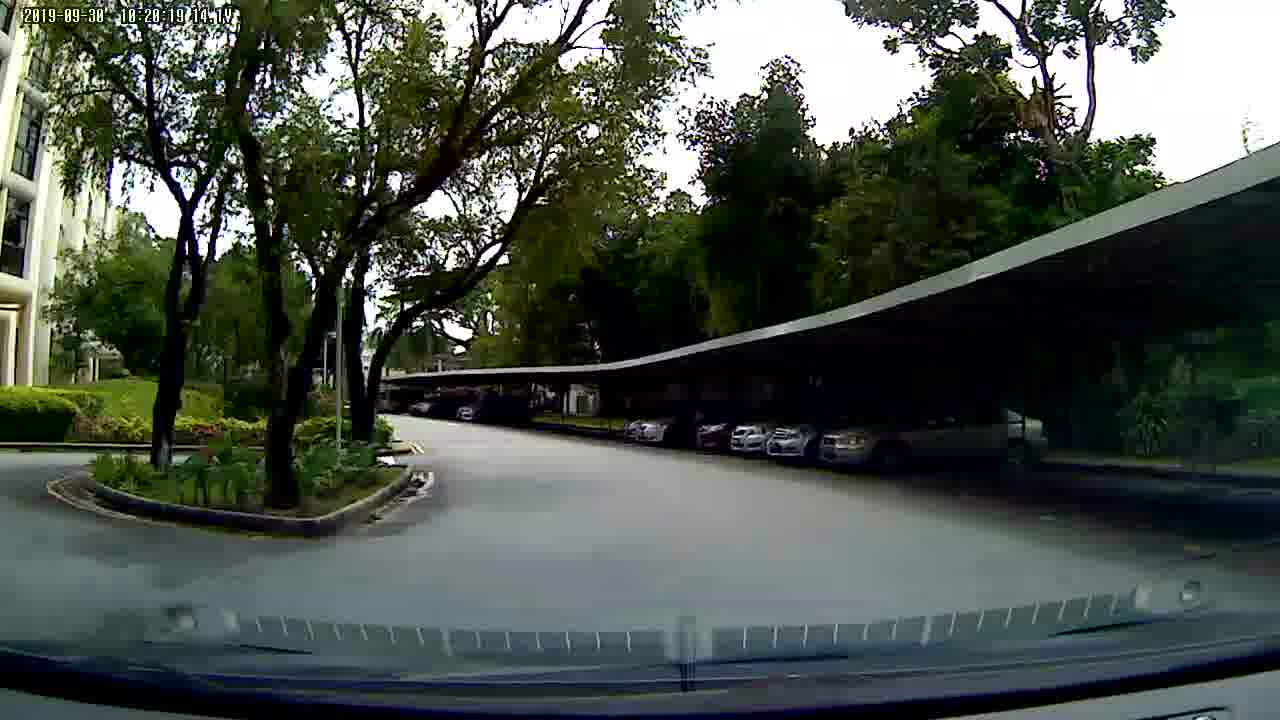car: (613, 404, 1052, 478)
